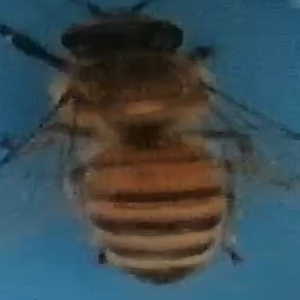bee: (8, 5, 295, 292)
